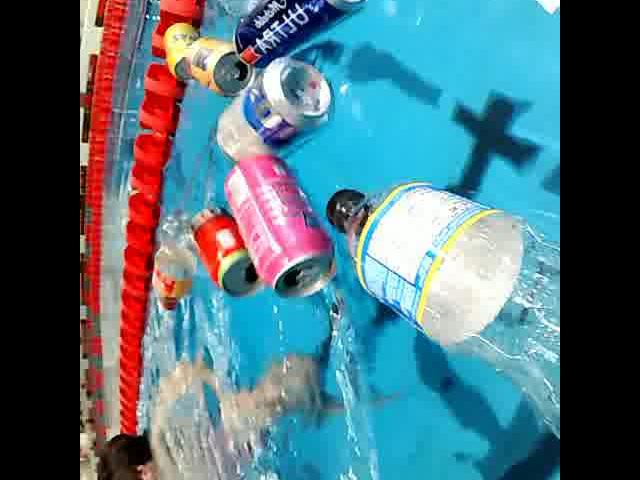Bottle: (315, 173, 560, 436), (152, 200, 198, 320)
Can: (222, 152, 338, 306), (218, 50, 338, 166), (235, 0, 373, 67), (185, 199, 265, 304), (184, 32, 250, 102), (164, 19, 198, 87)
